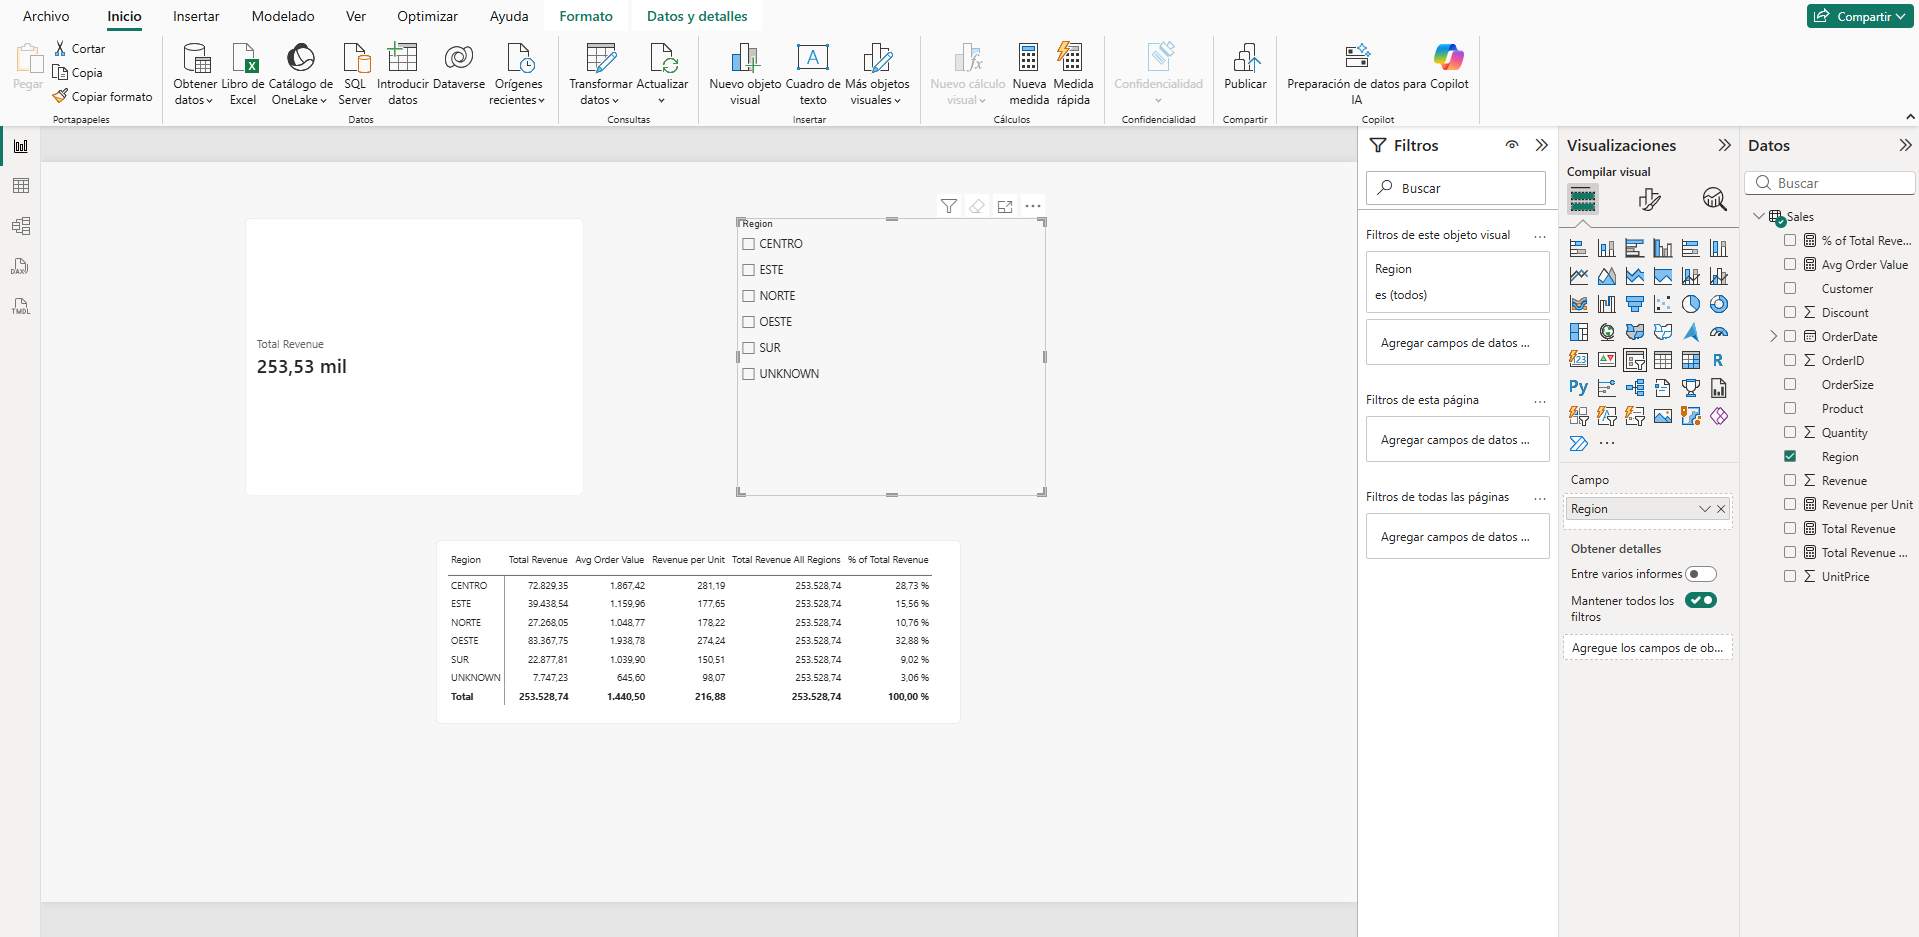

The dashboard page shown, as its layout file describes it:
{"tool":"powerbi","page":{"name":"Página 1","canvas":[1920,1080],"ordinal":0},"visuals":[{"type":"cardVisual","fields":{"Data":["Sales.Total Revenue"]},"box":[297.6,81.7,494.6,405.6],"z":0},{"type":"slicer","fields":{"Values":["Sales.Region"]},"box":[1015.4,81.7,450.8,405.6],"z":1000},{"type":"pivotTable","fields":{"Rows":["Sales.Region"],"Values":["Sales.Total Revenue","Sales.Avg Order Value","Sales.Revenue per Unit","Sales.Total Revenue All Regions","Sales.% of Total Revenue"]},"box":[576.3,551.5,766,268.4],"z":2000}]}

Visuals, with their boxes on the page's 1920x1080 design canvas (x1, y1, x2, y2). These are canvas units, not pixel positions in the 1919x937 screenshot, which may show the page scaled, cropped or inside an application window:
cardVisual - Sales.Total Revenue: 298/82/792/487
slicer - Sales.Region: 1015/82/1466/487
pivotTable - Sales.Region x Sales.Total Revenue: 576/552/1342/820
